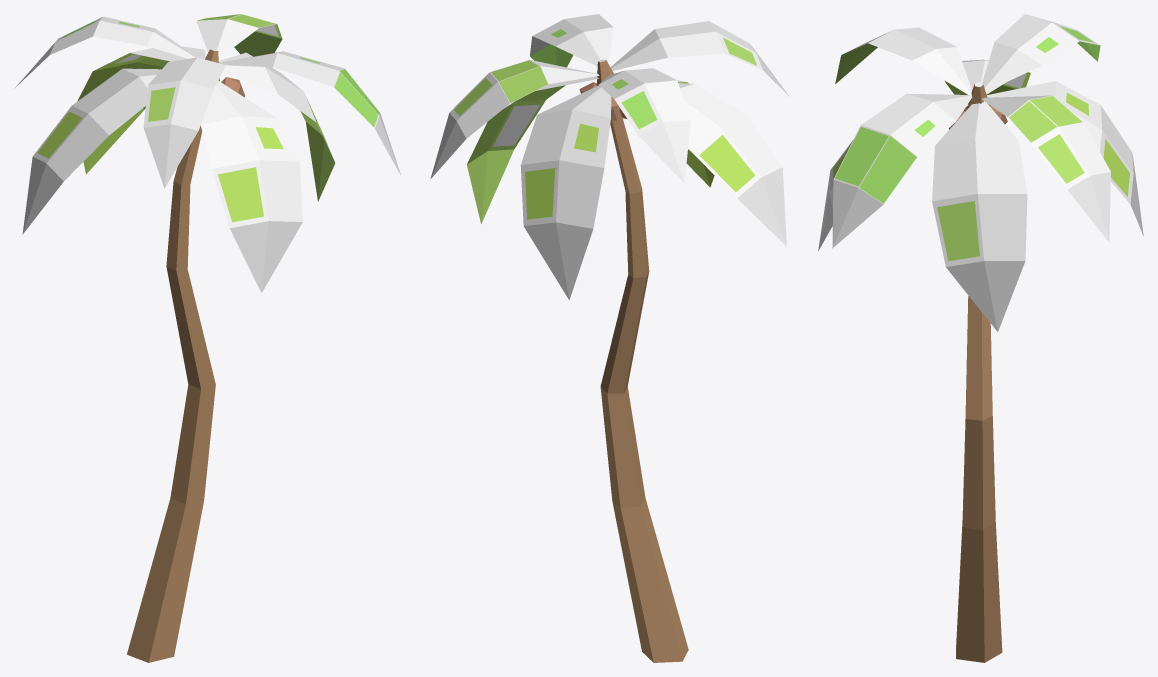
Rendered from Palm_Tree_Coconut_m_Snow_04_LOD.fbx.
The picture shows the model from 3 angles, left to right: view 1: azimuth 30°, elevation 25°; view 2: azimuth 150°, elevation 25°; view 3: azimuth 270°, elevation 25°; orthographic projection. The views are drawn at different scales.
Parts seen in each view (by area): view 1: Palm_Tree_Coconut_m_Snow_04_LOD0; view 2: Palm_Tree_Coconut_m_Snow_04_LOD0; view 3: Palm_Tree_Coconut_m_Snow_04_LOD0.
Part boxes in pixels (x1,y1,x2,y2): Palm_Tree_Coconut_m_Snow_04_LOD0: (14,14,401,662); Palm_Tree_Coconut_m_Snow_04_LOD0: (430,14,789,662); Palm_Tree_Coconut_m_Snow_04_LOD0: (818,14,1143,662).
Size of what is drawn, in the model's own units: 319 by 600 by 284.
